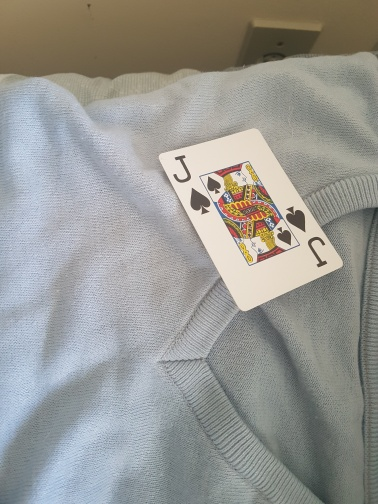jack: (158, 131, 344, 313)
